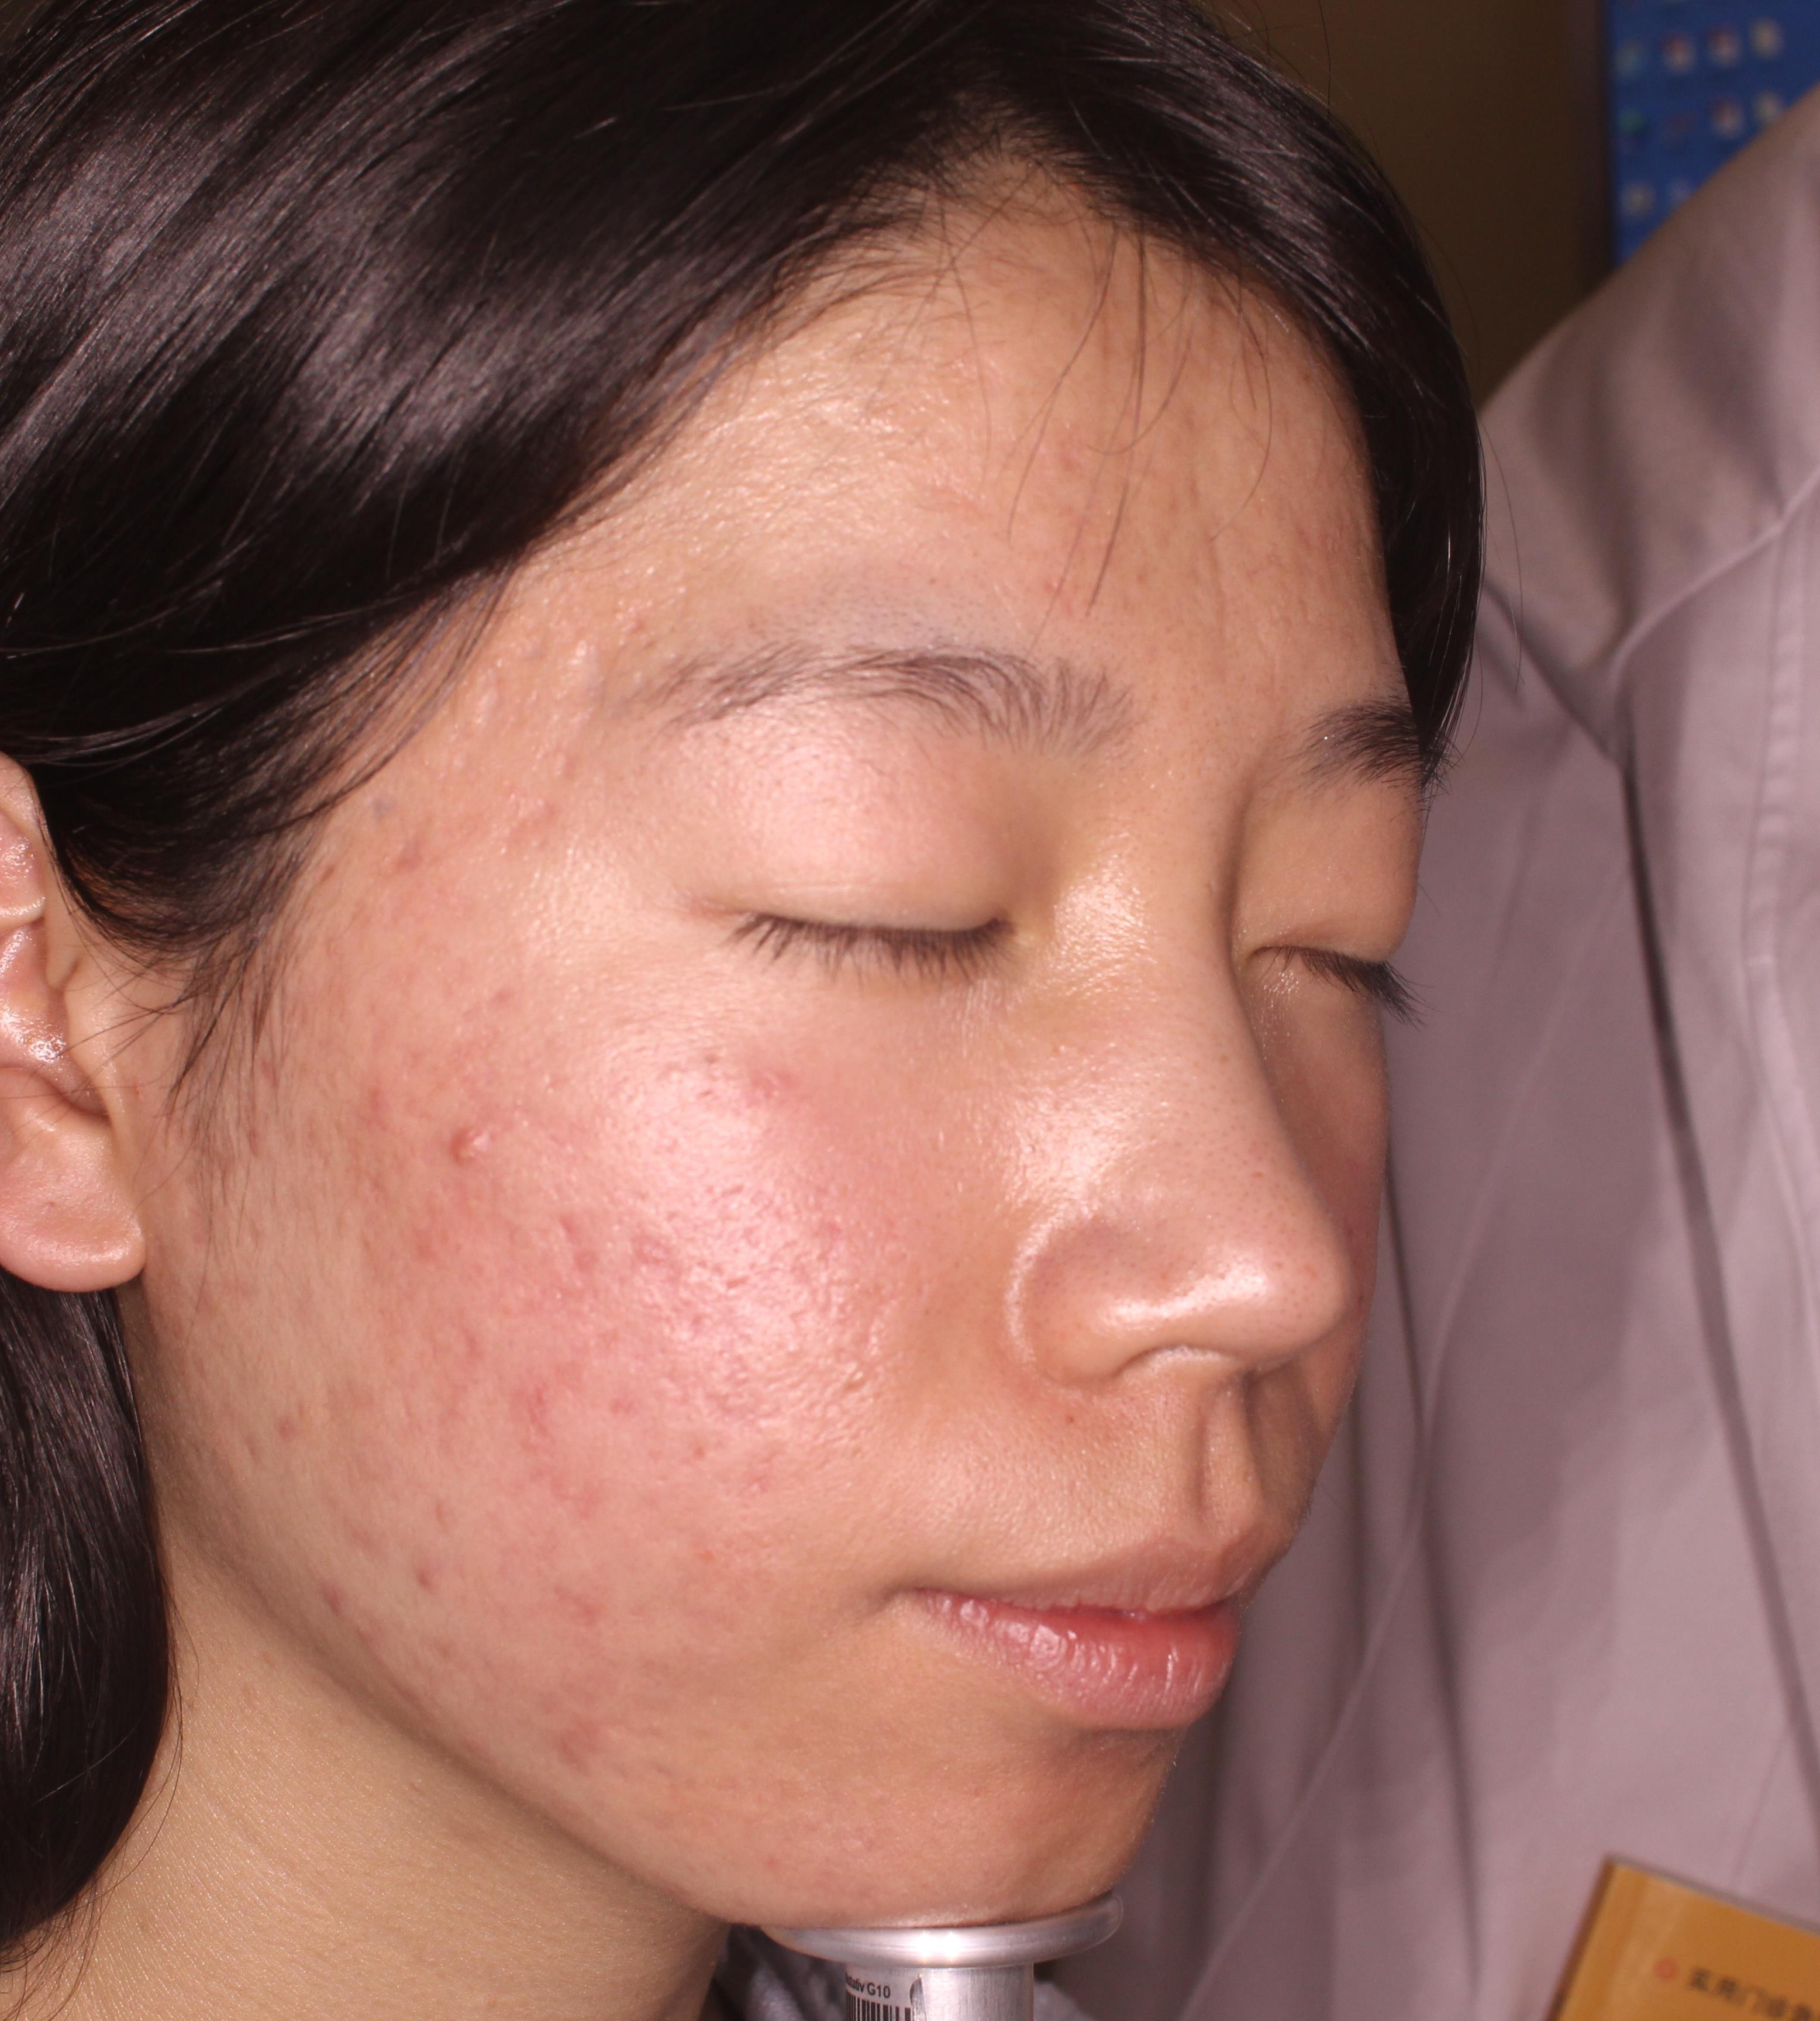fore: (531, 1563, 652, 1696), (332, 1064, 444, 1168), (436, 1104, 531, 1199), (172, 1078, 274, 1159), (320, 1568, 386, 1658), (552, 1222, 632, 1294), (392, 1536, 467, 1589)
